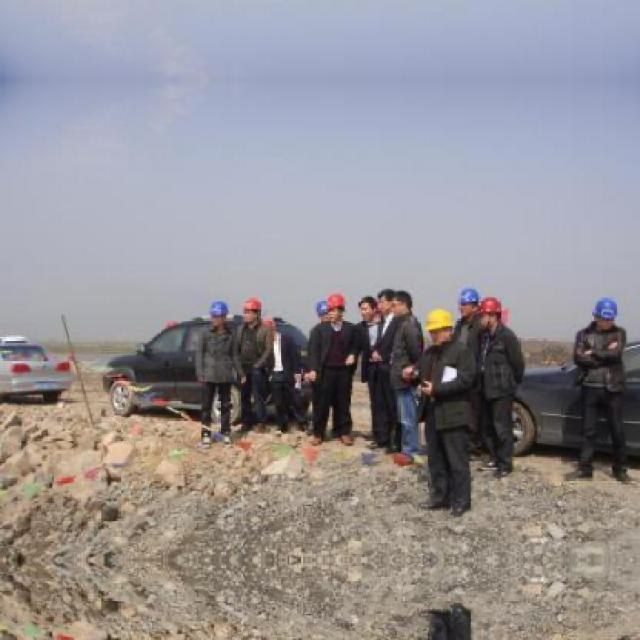helmet: (422, 303, 456, 352), (588, 290, 617, 332), (477, 294, 503, 331), (455, 283, 480, 320), (324, 290, 348, 324), (204, 297, 227, 326), (236, 296, 258, 324), (314, 298, 331, 324)
